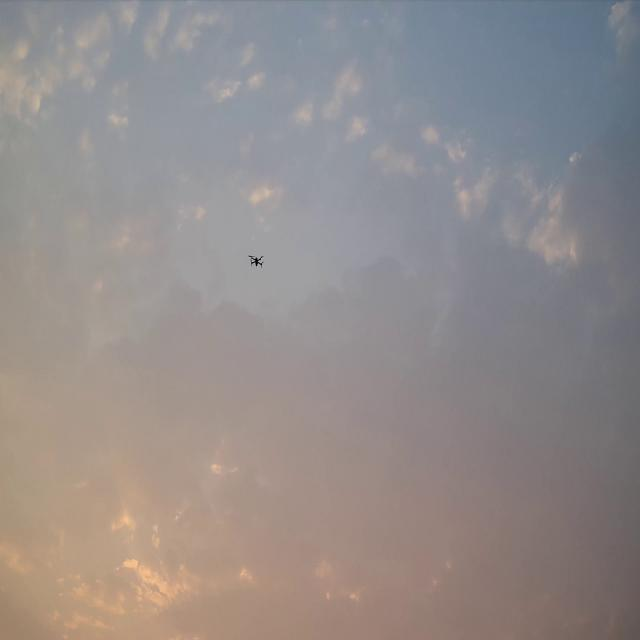UAV: (248, 254, 264, 268)
